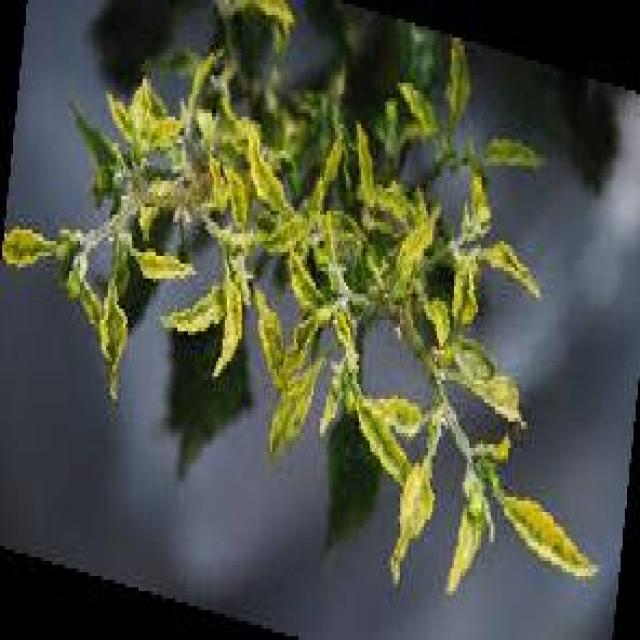Chili_yellowish: (496, 490, 602, 586)
